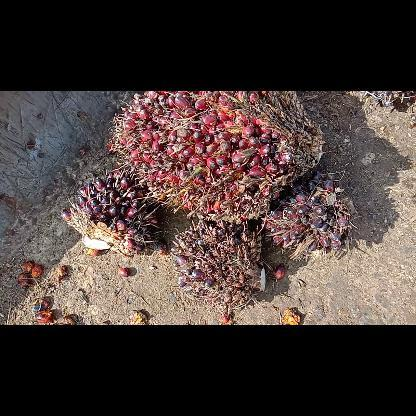TBS abnormal: (60, 172, 157, 254), (172, 223, 276, 298), (262, 181, 360, 255)
TBS masak: (109, 91, 325, 221)
